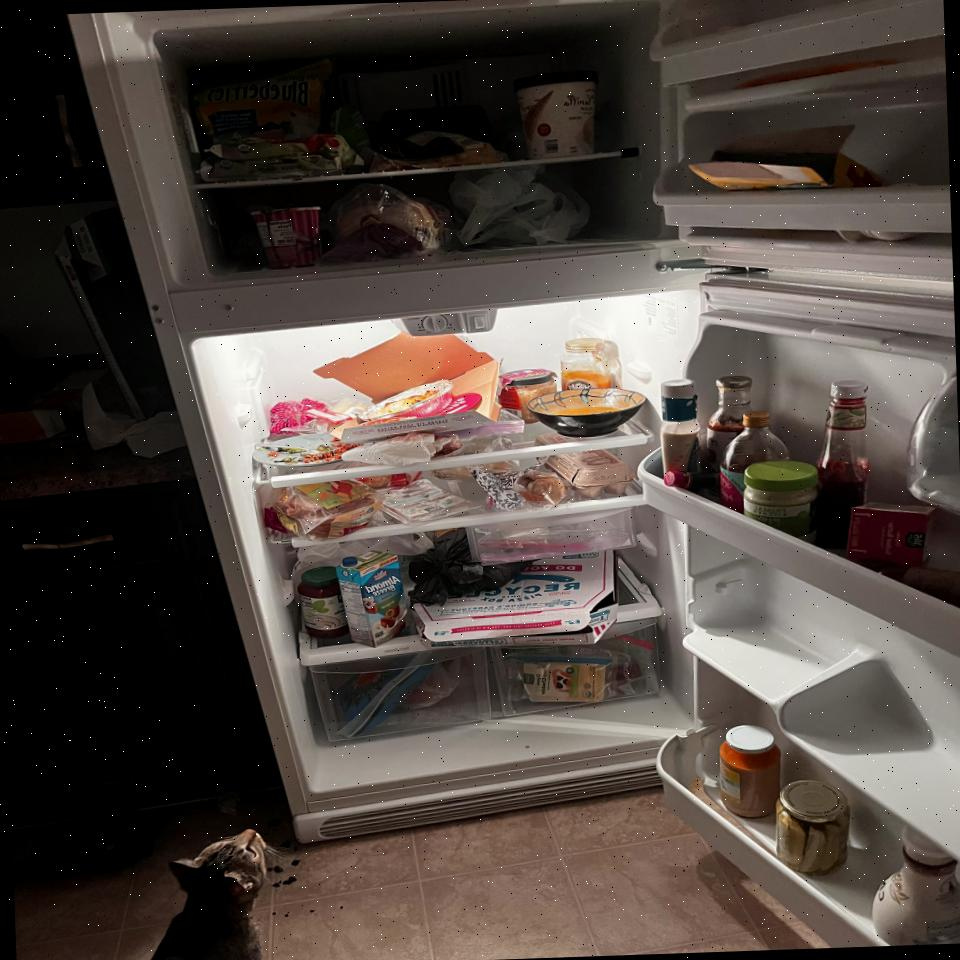Huevos: (535, 430, 634, 500)
